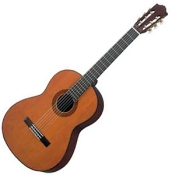guitar: (1, 3, 169, 174)
